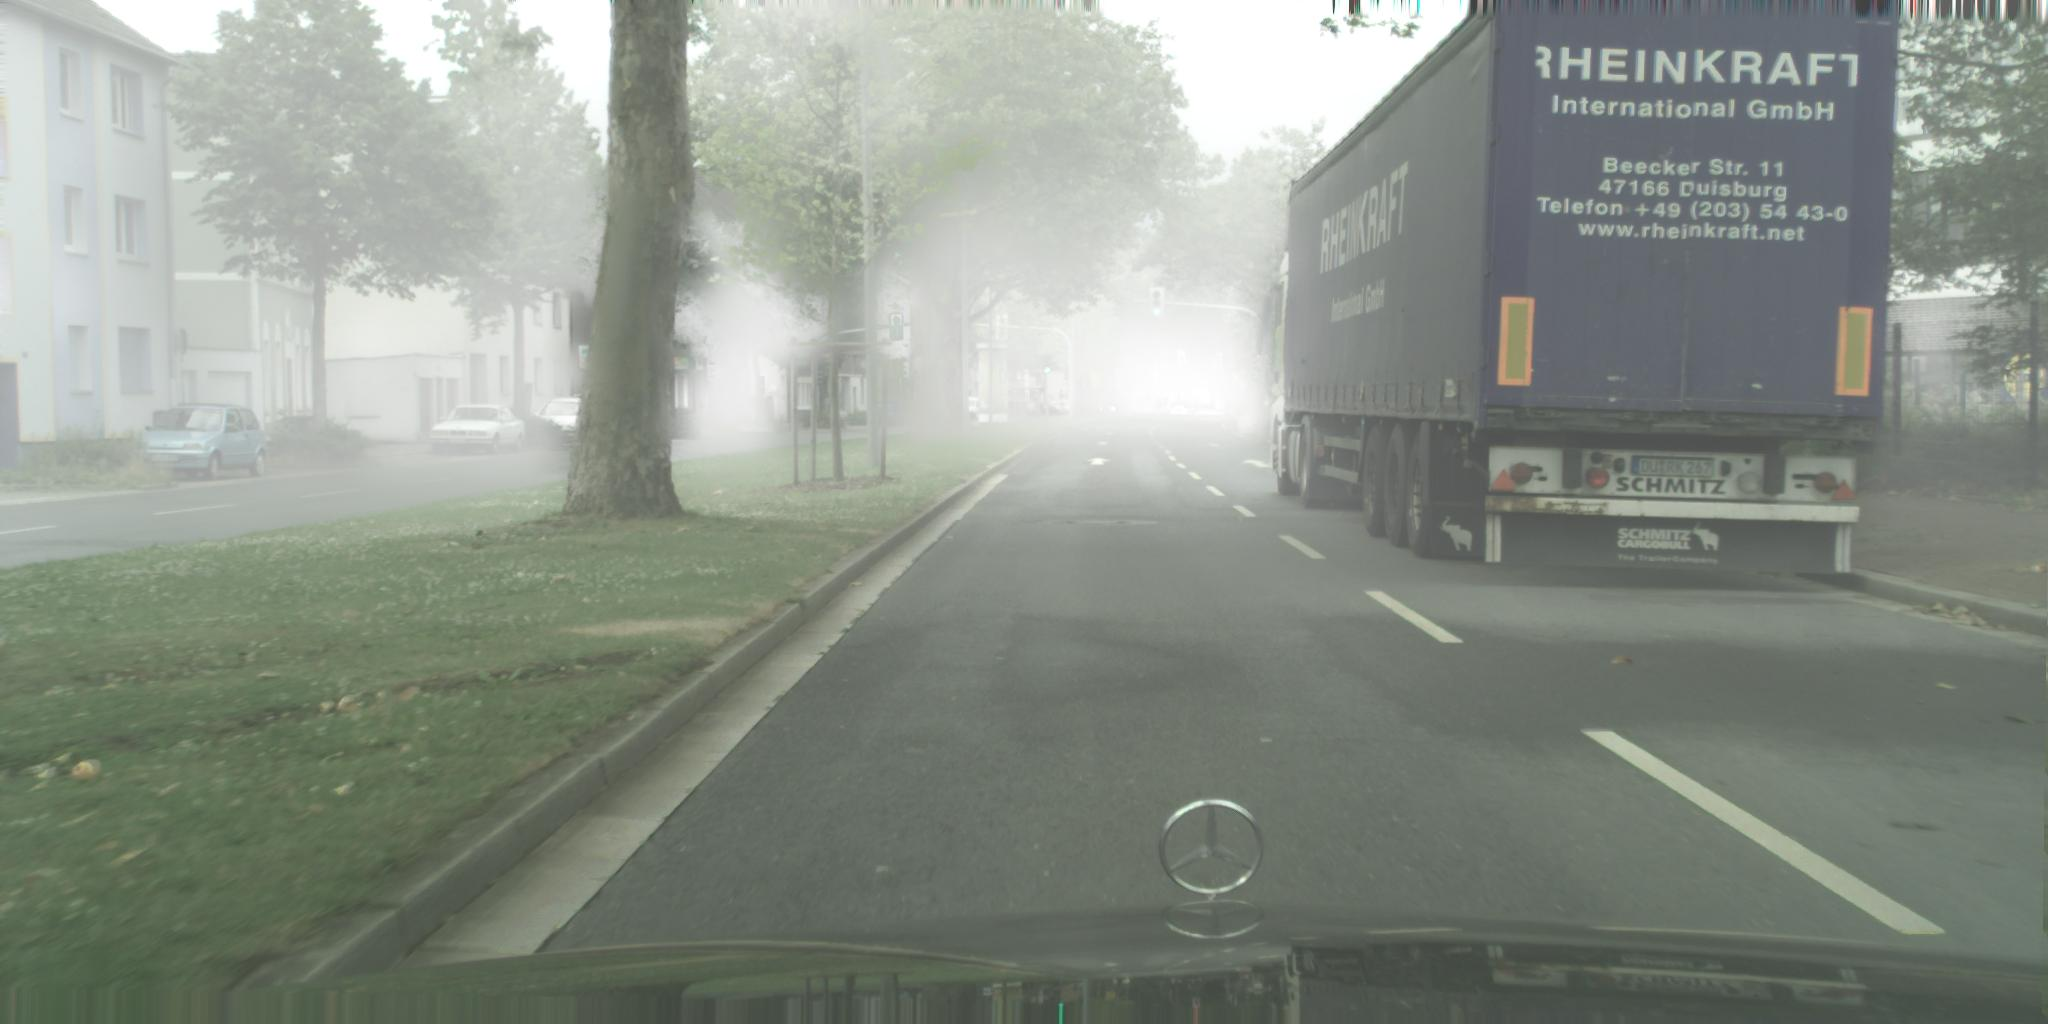car: (127, 404, 270, 482), (428, 404, 526, 457), (530, 394, 593, 444), (874, 401, 906, 426), (953, 396, 984, 421), (1187, 404, 1228, 415), (1042, 400, 1074, 414), (1157, 396, 1174, 415), (1096, 401, 1121, 414), (1170, 401, 1191, 415), (1024, 402, 1040, 418), (1048, 400, 1064, 411)
truck: (1260, 1, 1900, 573)
